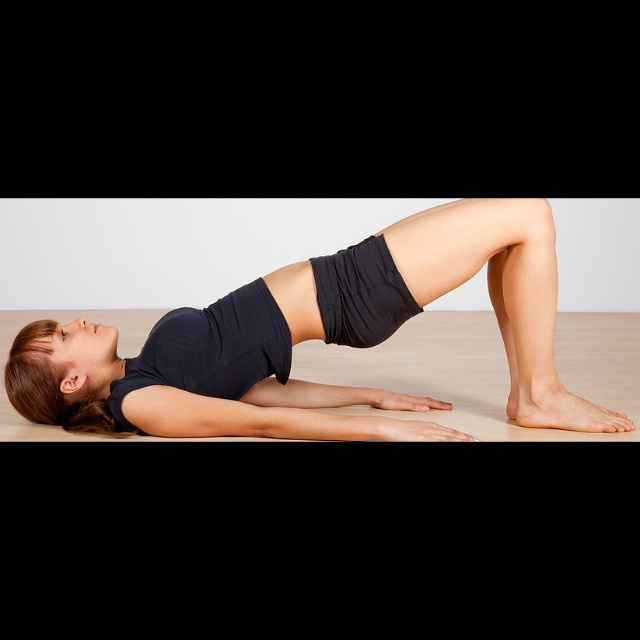Bridge_Pose: (6, 196, 640, 445)
